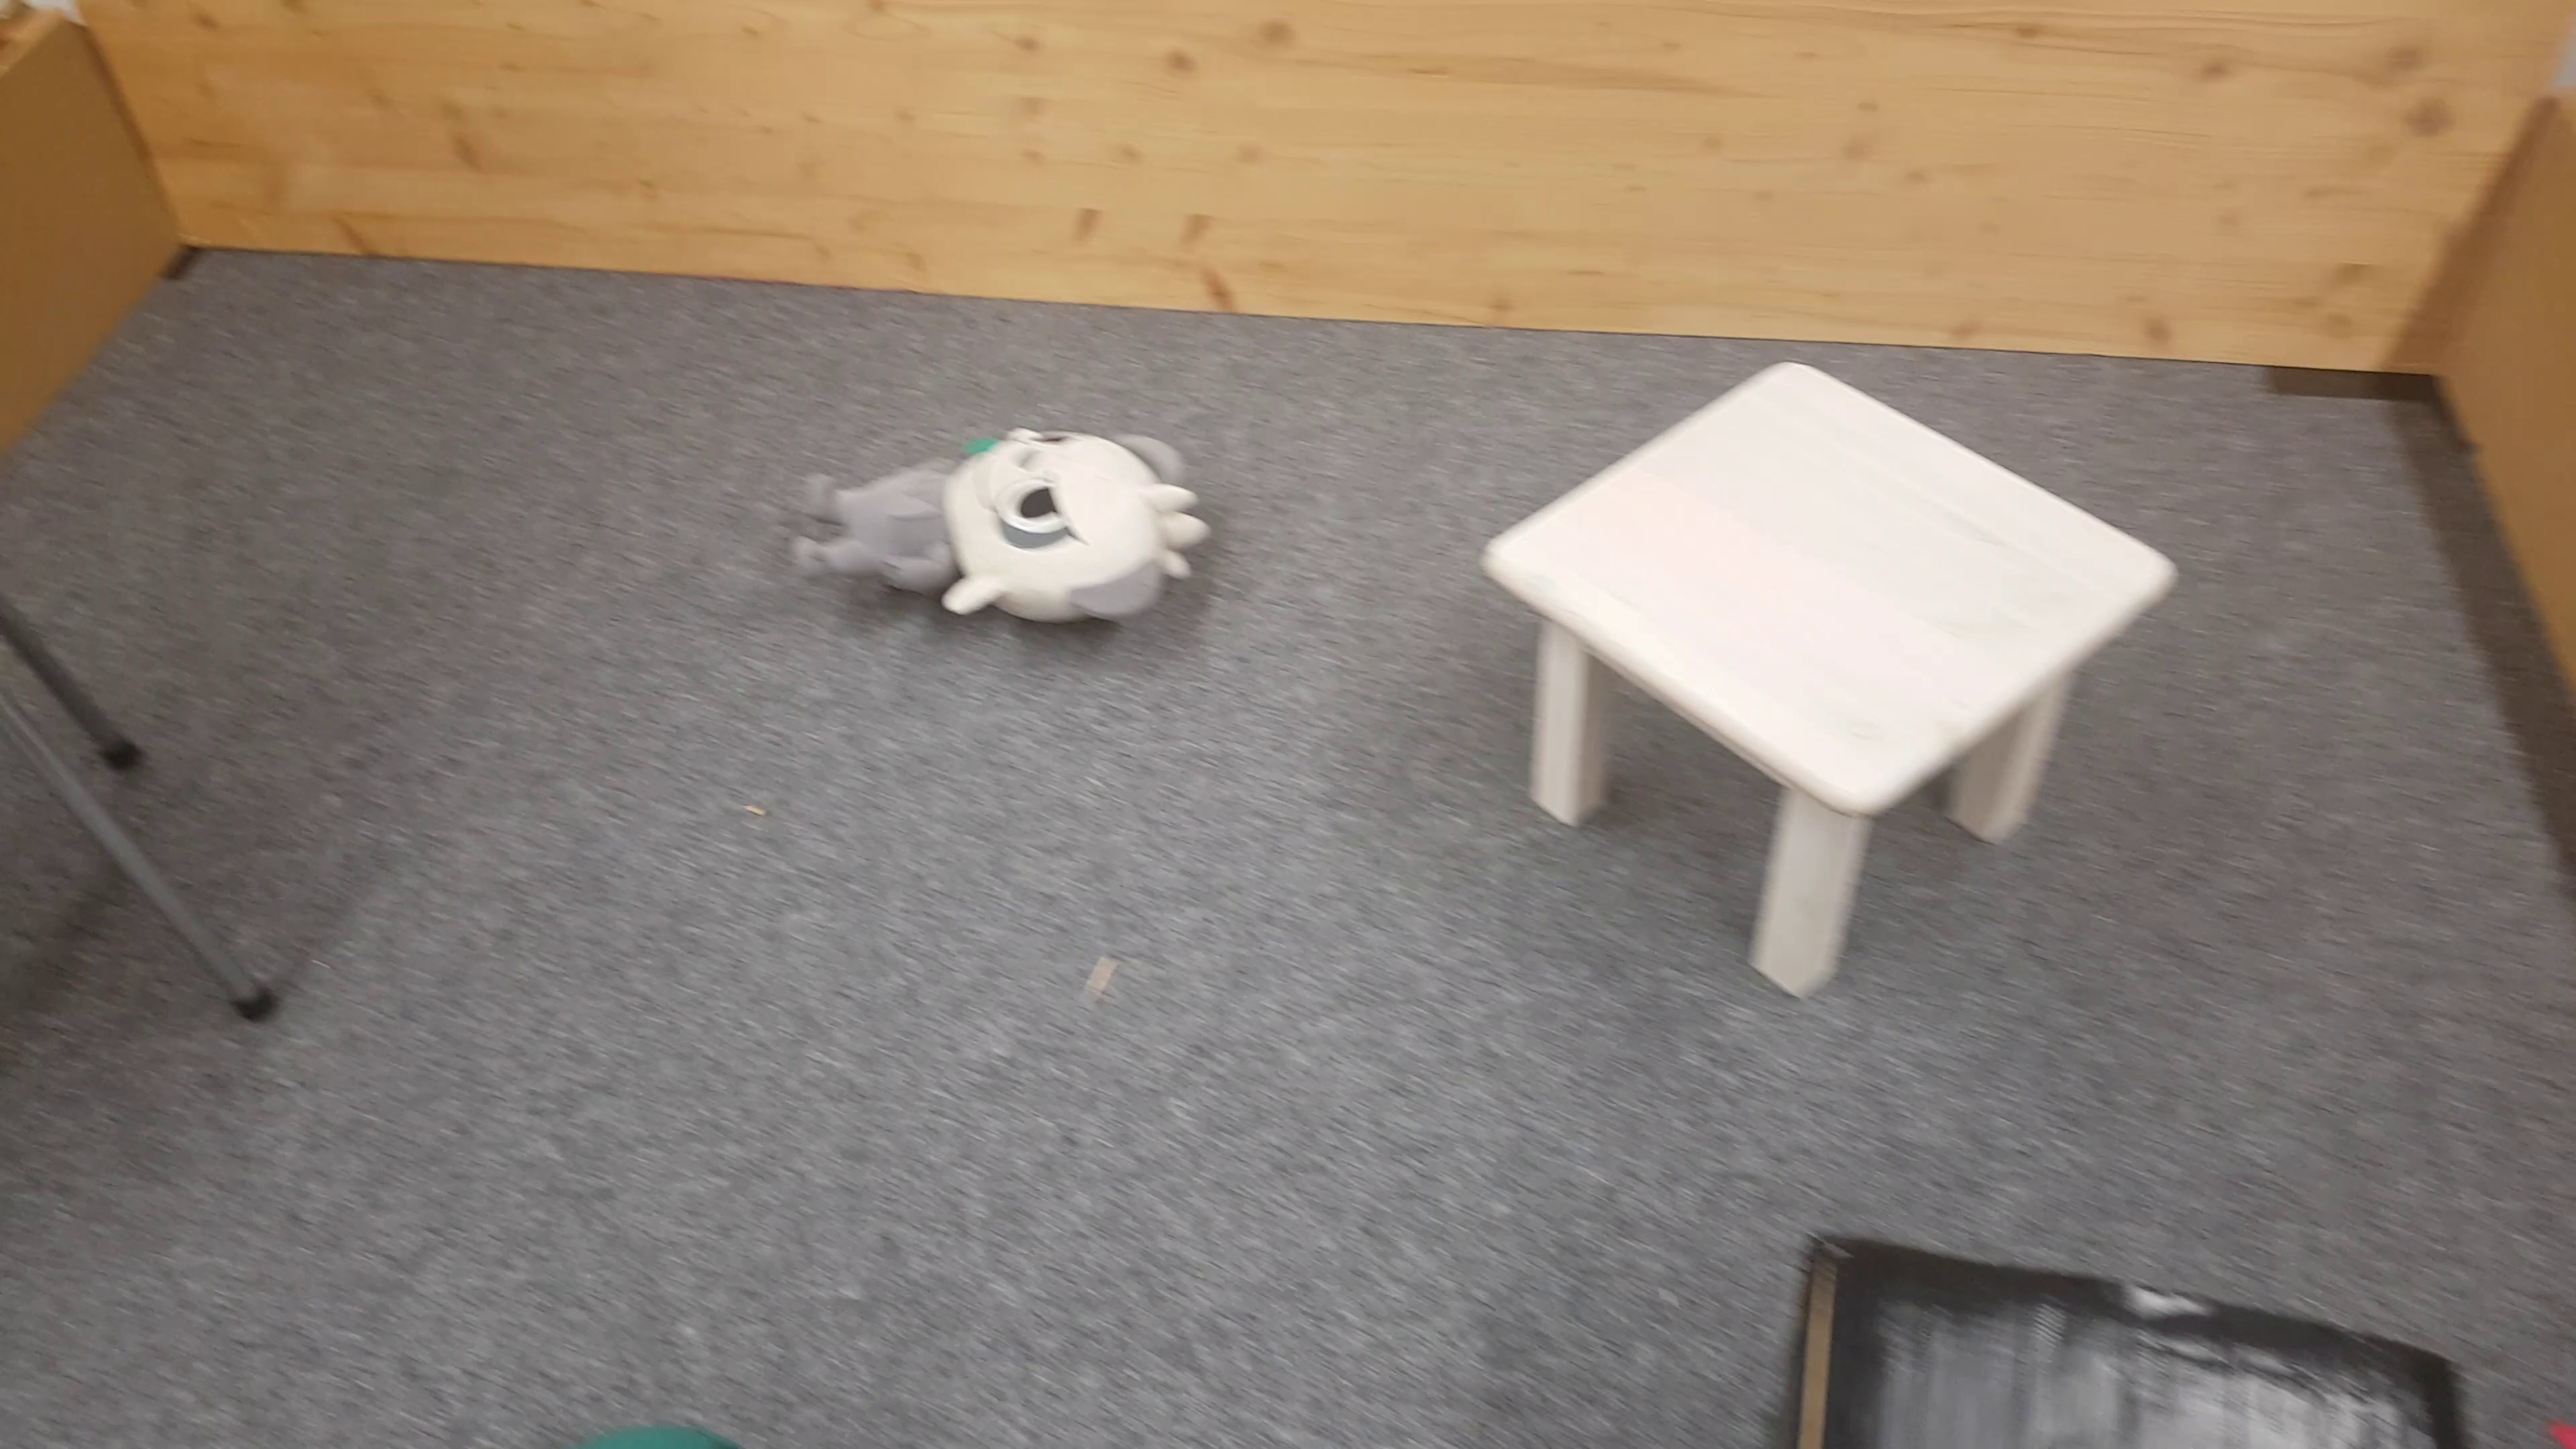grasp: (784, 416, 1210, 649)
push: (1789, 1224, 2468, 1449)
